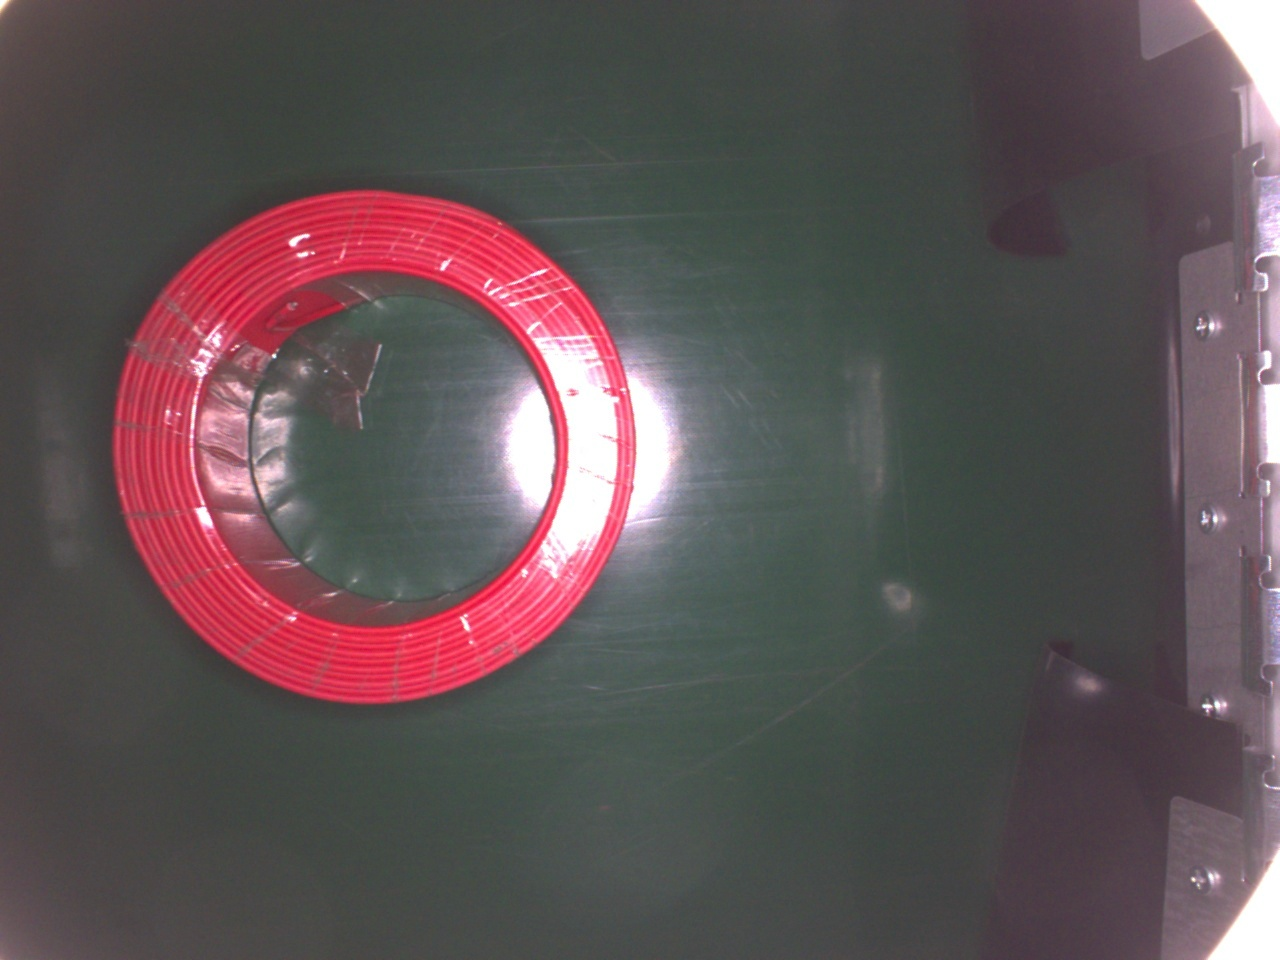red: (110, 185, 639, 708)
